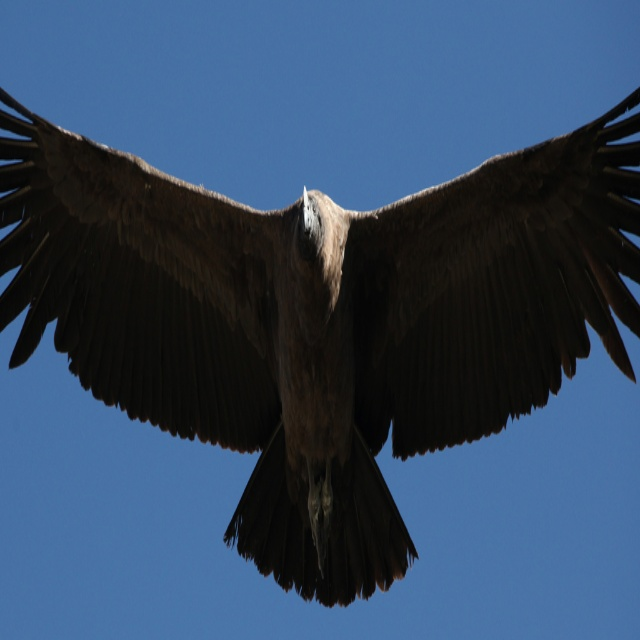Eagle: (0, 86, 640, 609)
